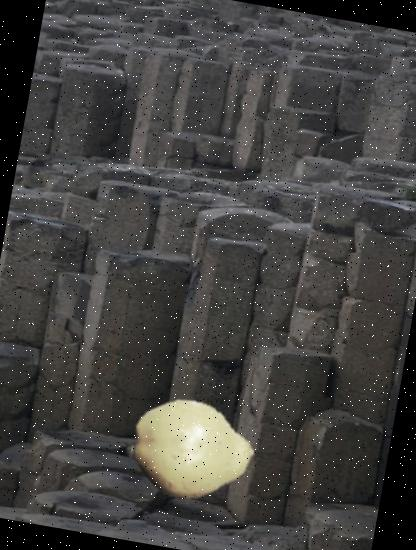Quince: (122, 380, 263, 520)
